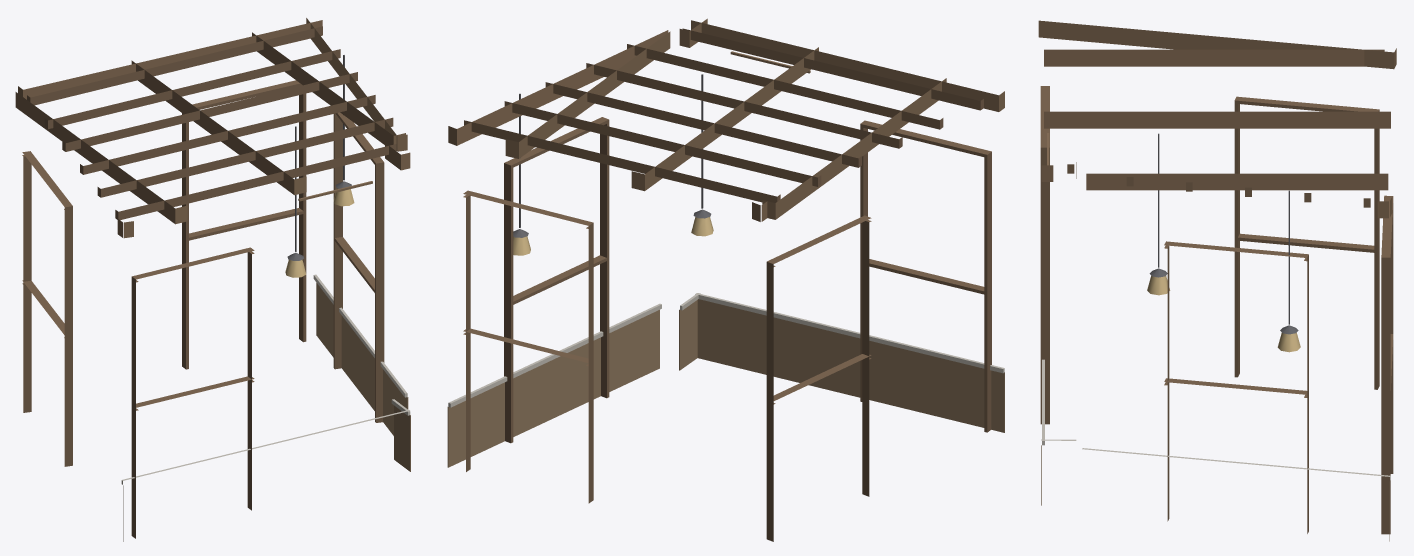
The model's file is interior_b086.glb.
3 renders of one model, left to right at view 1: azimuth 30°, elevation 25°; view 2: azimuth 150°, elevation 25°; view 3: azimuth 270°, elevation 25°, orthographic. The views are drawn at different scales.
Visible parts, largest first — view 1: Interior_B086_mesh; view 2: Interior_B086_mesh; view 3: Interior_B086_mesh.
Boxes of the visible parts, x1,y1,x2,y2 form: Interior_B086_mesh: (15,18,410,541); Interior_B086_mesh: (447,18,1004,541); Interior_B086_mesh: (1038,20,1396,541).
Size of the model in its own units: 7.71 by 6.47 by 6.23.
